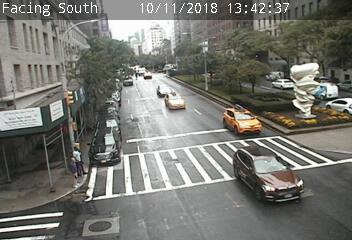car: (233, 146, 305, 205), (223, 107, 262, 136), (89, 128, 120, 163), (304, 83, 339, 99), (325, 97, 352, 113), (164, 93, 184, 109), (272, 79, 294, 89), (157, 84, 172, 96)
